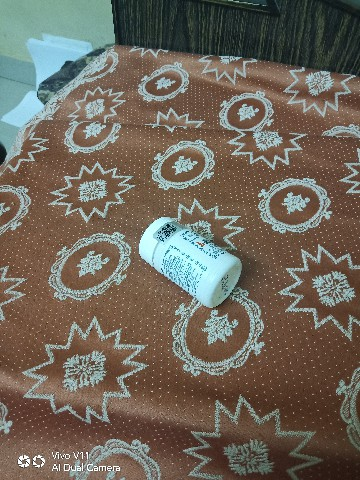lgasafoetidapowder small: (123, 198, 247, 322)
